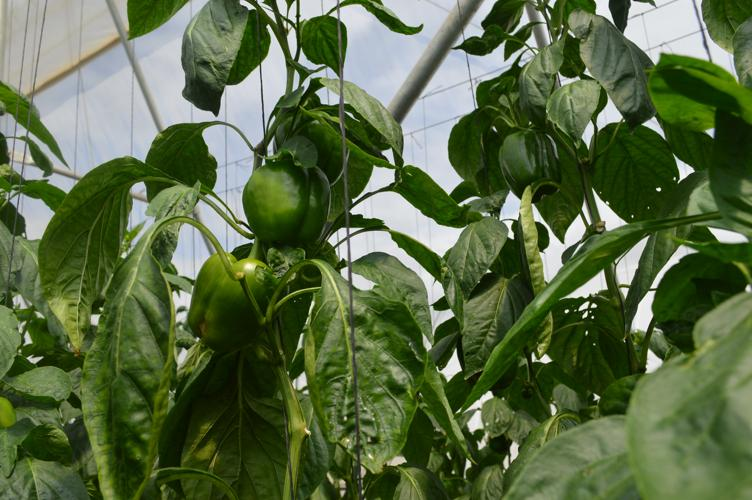BellPepper: (238, 158, 334, 250), (180, 253, 268, 341), (498, 132, 560, 203)
